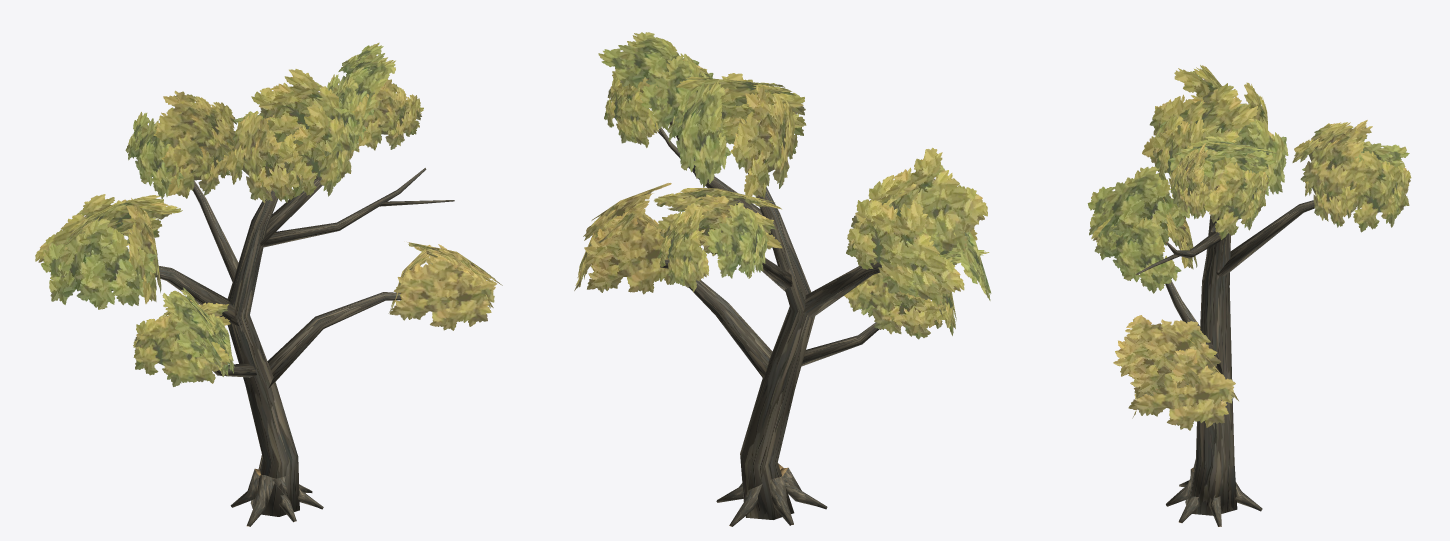
The model's file is nbt_scraggly.glb.
3 renders of one model, left to right at view 1: azimuth 30°, elevation 25°; view 2: azimuth 150°, elevation 25°; view 3: azimuth 270°, elevation 25°, orthographic. The views are drawn at different scales.
Parts seen in each view (by area): view 1: Scraggly_Tree_Foliage, Scraggly_Tree_Wood; view 2: Scraggly_Tree_Foliage, Scraggly_Tree_Wood; view 3: Scraggly_Tree_Foliage, Scraggly_Tree_Wood.
Boxes of the visible parts, x1=… form: Scraggly_Tree_Foliage: x1=35, y1=42, x2=502, y2=386; Scraggly_Tree_Wood: x1=156, y1=168, x2=454, y2=526; Scraggly_Tree_Foliage: x1=574, y1=32, x2=991, y2=339; Scraggly_Tree_Wood: x1=657, y1=118, x2=881, y2=526; Scraggly_Tree_Foliage: x1=1087, y1=65, x2=1411, y2=430; Scraggly_Tree_Wood: x1=1135, y1=185, x2=1314, y2=526.
Bounding box in the file's own units: 6.29 × 5.76 × 4.32.
2 materials, 2 textured.
